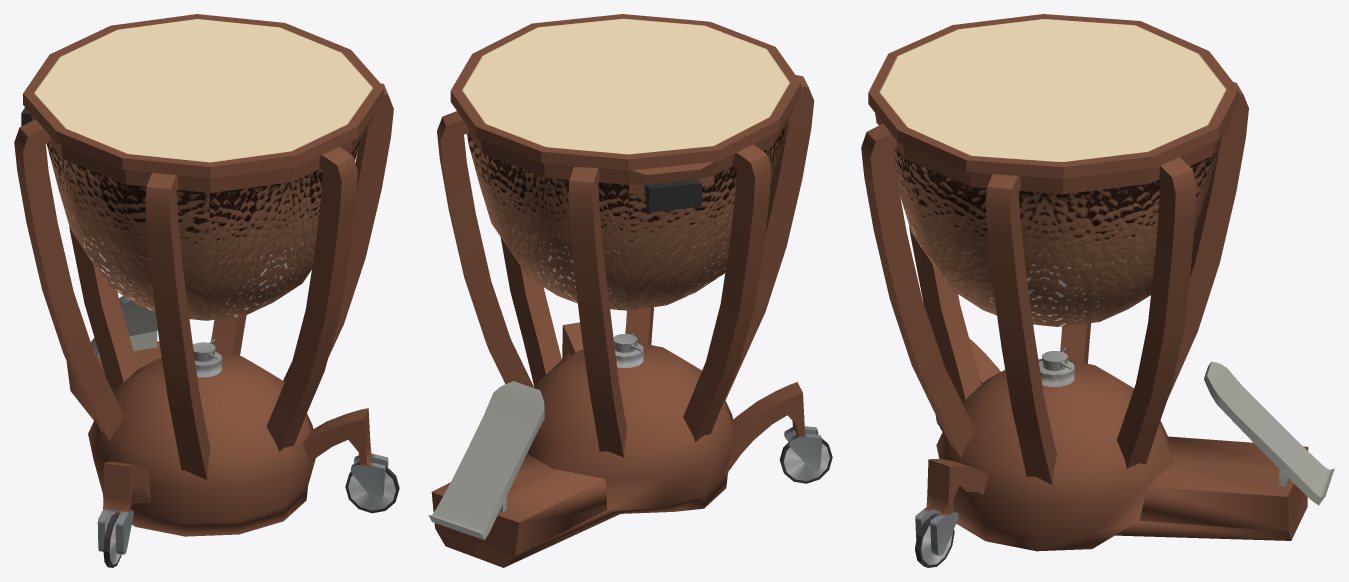
File: timpani_drum.glb
3 renders of one model, left to right at view 1: azimuth 30°, elevation 25°; view 2: azimuth 150°, elevation 25°; view 3: azimuth 270°, elevation 25°, orthographic. The views are drawn at different scales.
Visible parts, largest first — view 1: SM_Drum; view 2: SM_Drum; view 3: SM_Drum.
Boxes of the visible parts, bbox=[...] form: SM_Drum: bbox=[14, 14, 399, 567]; SM_Drum: bbox=[428, 14, 832, 567]; SM_Drum: bbox=[861, 14, 1334, 567].
Bounding box in the file's own units: 4.85 × 5.72 × 5.85.
1 material, 1 textured.
